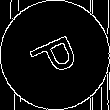P_NE: (24, 28, 86, 82)
